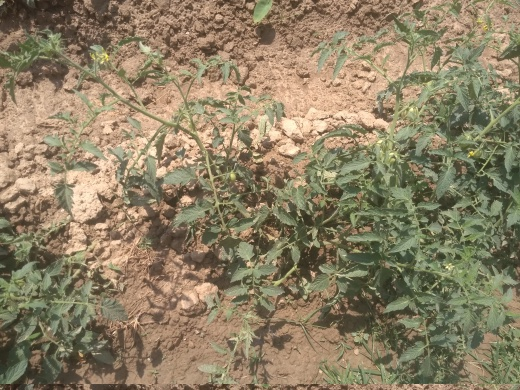tomato plant: (329, 97, 517, 302), (1, 249, 90, 352)
